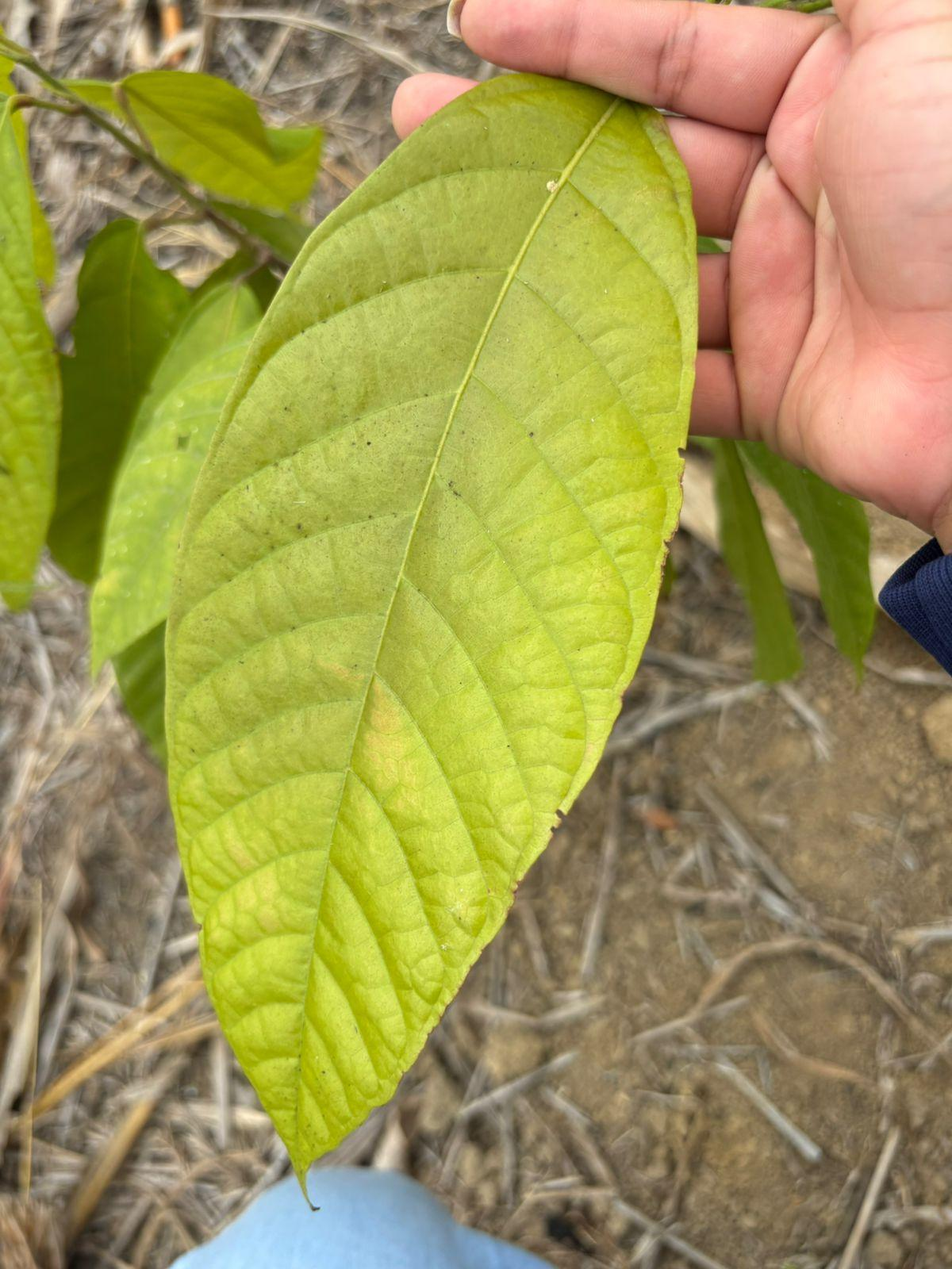Nitrogeno: (167, 75, 697, 1170)
